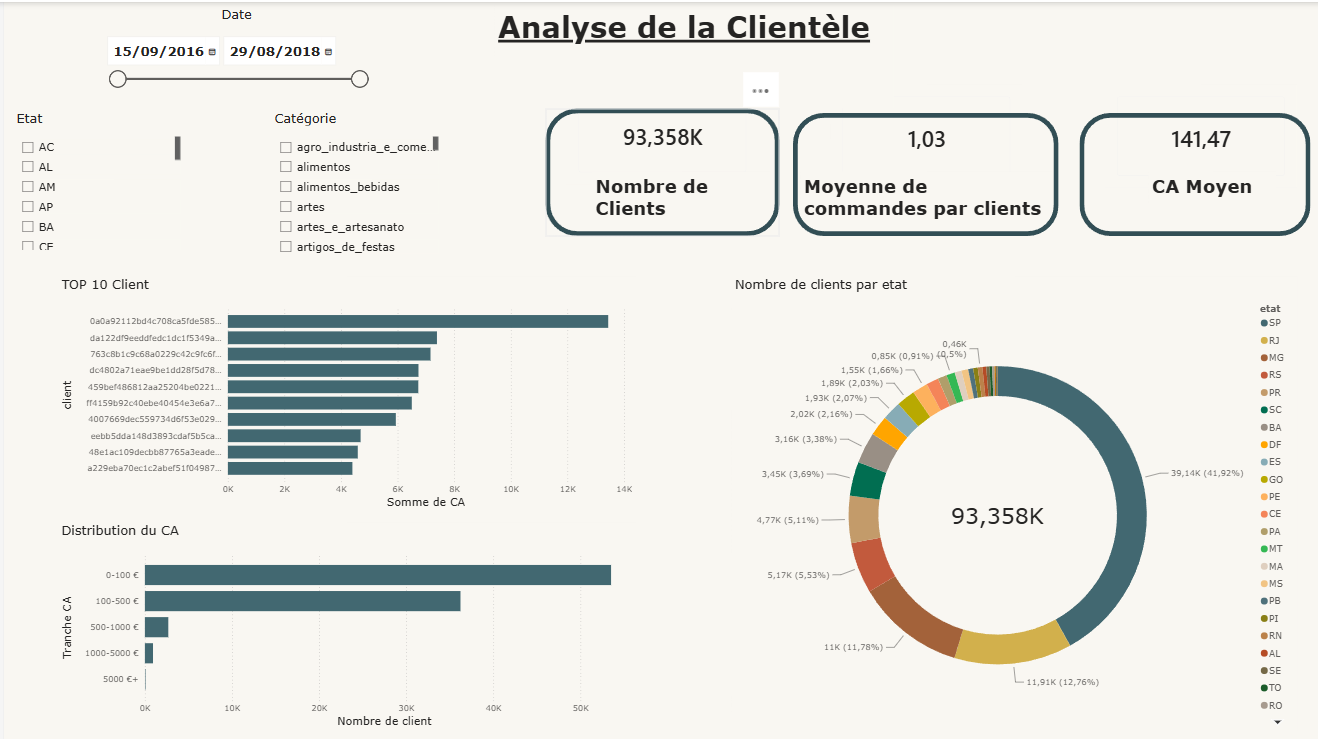

The dashboard page shown, as its layout file describes it:
{"tool":"powerbi","page":{"name":"Analyse Clients","canvas":[1920,1080],"ordinal":1},"visuals":[{"type":"slicer","title":"Date","fields":{"Values":["vw_sales_1228.date_commande"]},"box":[137.7,6.6,402.4,129],"z":0,"group":"g1"},{"type":"cardVisual","fields":{"Data":["Count(vw_customer_metric_5256.client)"]},"box":[820,120.3,279.4,145.4],"z":0},{"type":"cardVisual","fields":{"Data":["Avg(vw_customer_metric_5256.nb_commandes)"]},"box":[1204.9,120.3,279,150],"z":1000},{"type":"slicer","title":"Etat","fields":{"Values":["vw_sales_1228.etat"]},"box":[13.1,157.5,249.3,207.7],"z":1000,"group":"g1"},{"type":"cardVisual","fields":{"Data":["Avg(vw_customer_metric_5256.CA)"]},"box":[1605.1,120.3,279,150],"z":2000},{"type":"slicer","title":"Catégorie","fields":{"Values":["vw_sales_1228.categorie_produit"]},"box":[389.2,157.5,249.3,214.3],"z":2000,"group":"g1"},{"type":"barChart","title":"TOP 10 Client","fields":{"Category":["vw_customer_metric_5256.client"],"Y":["Sum(vw_customer_metric_5256.CA)"]},"box":[78.7,400.2,841.9,343.3],"z":3000},{"type":"donutChart","title":"Nombre de clients par etat","fields":{"Category":["vw_customer_metric_5256.etat"],"Y":["CountNonNull(vw_customer_metric_5256.client)"]},"box":[1060.6,400.2,824.4,662.6],"z":4000},{"type":"barChart","title":"Distribution du CA","fields":{"Category":["vw_customer_metric_5256.Tranche CA"],"Y":["CountNonNull(vw_customer_metric_5256.client)"]},"box":[78.7,758.8,841.9,304],"z":5000},{"type":"group","id":"g1","title":"Groupe 2","box":[13.1,6.6,625.4,365.2],"z":6000},{"type":"textbox","box":[857.2,247.1,260.2,89.7],"z":7000},{"type":"textbox","box":[1161.2,247.1,367.4,89.7],"z":8000},{"type":"textbox","box":[1668.5,247.1,185.9,94],"z":9000},{"type":"textbox","box":[715.1,4.4,581.7,150.9],"z":10000},{"type":"shape","box":[1567.9,161.8,336.8,179.3],"z":10001},{"type":"shape","box":[1150.3,161.8,387.1,179.3],"z":10002},{"type":"shape","box":[789.4,155.3,341.1,185.9],"z":10003}]}

Visuals, with their boxes in screenshot pixels (x1, y1, x2, y2), scaled from the page's 1920x1080 canvas onto the 1318x739 screenshot:
"Date" slicer: select_region(95, 5, 371, 93)
cardVisual - Count(vw_customer_metric_5256.client): select_region(563, 82, 755, 182)
cardVisual - Avg(vw_customer_metric_5256.nb_commandes): select_region(827, 82, 1019, 185)
"Etat" slicer: select_region(9, 108, 180, 250)
cardVisual - Avg(vw_customer_metric_5256.CA): select_region(1102, 82, 1293, 185)
"Catégorie" slicer: select_region(267, 108, 438, 254)
"TOP 10 Client" barChart: select_region(54, 274, 632, 509)
"Nombre de clients par etat" donutChart: select_region(728, 274, 1294, 727)
"Distribution du CA" barChart: select_region(54, 519, 632, 727)
"Groupe 2" group: select_region(9, 5, 438, 254)
textbox: select_region(588, 169, 767, 230)
textbox: select_region(797, 169, 1049, 230)
textbox: select_region(1145, 169, 1273, 233)
textbox: select_region(491, 3, 890, 106)
shape: select_region(1076, 111, 1307, 233)
shape: select_region(790, 111, 1055, 233)
shape: select_region(542, 106, 776, 233)
